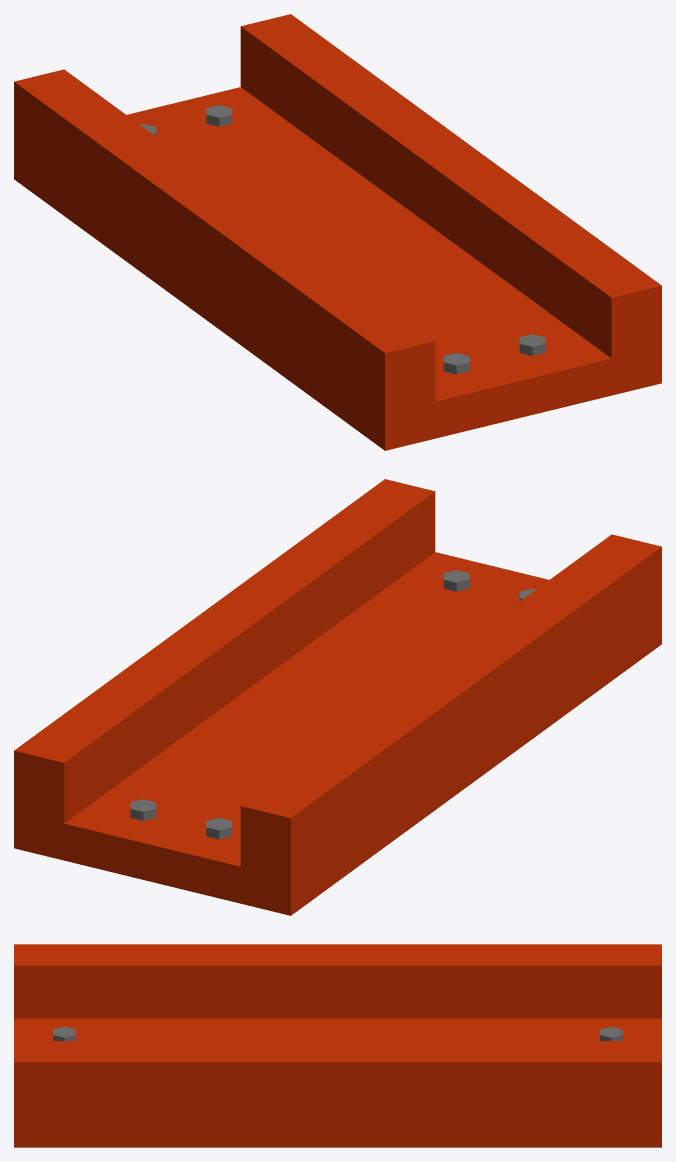
Rendered from Prop_Industrial_Beam_C_Bolted_No_Back_01.FBX.
The picture shows the model from 3 angles, top to bottom: view 1: azimuth 30°, elevation 25°; view 2: azimuth 150°, elevation 25°; view 3: azimuth 270°, elevation 25°; orthographic projection. The views are drawn at different scales.
Parts seen in each view (by area): view 1: Prop_Industrial_Beam_C_Bolted_No_Back_01; view 2: Prop_Industrial_Beam_C_Bolted_No_Back_01; view 3: Prop_Industrial_Beam_C_Bolted_No_Back_01.
Boxes of the visible parts, box(x1,y1,x2,y2) form: Prop_Industrial_Beam_C_Bolted_No_Back_01: box(14, 14, 661, 450); Prop_Industrial_Beam_C_Bolted_No_Back_01: box(14, 479, 661, 915); Prop_Industrial_Beam_C_Bolted_No_Back_01: box(14, 944, 661, 1147).
Bounding box in the file's own units: 862 × 290 × 2000.
